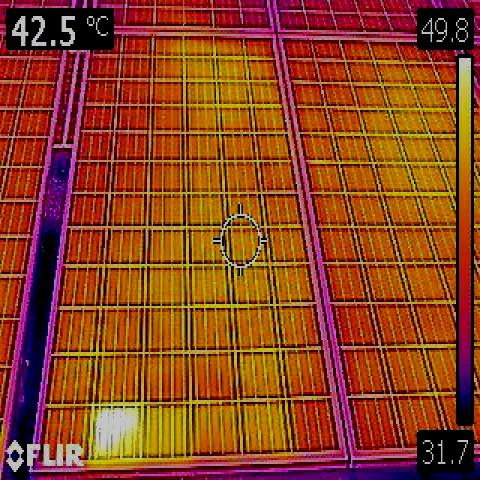fault: (90, 404, 142, 460)
